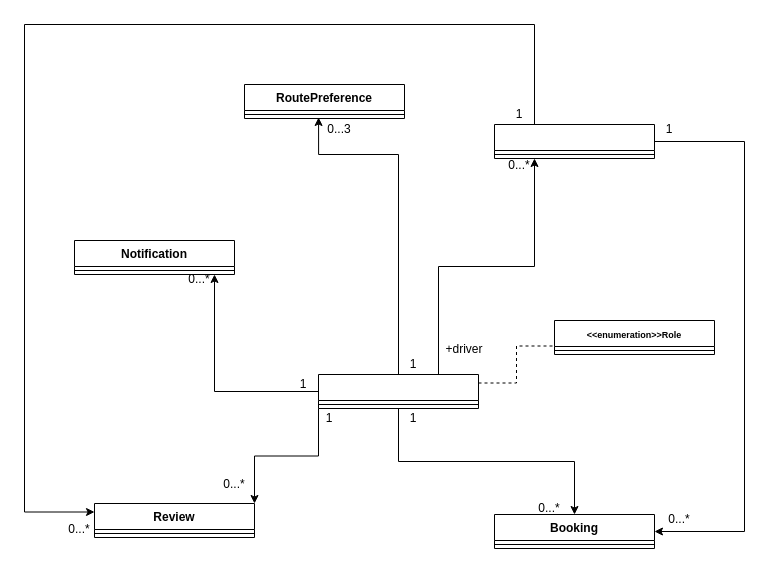
Image size: 770x566. Some labels were removed from this diagram. Each missing label, with the centre of its shape:
"Ride" goes at (574,141).
"User" goes at (398,391).
